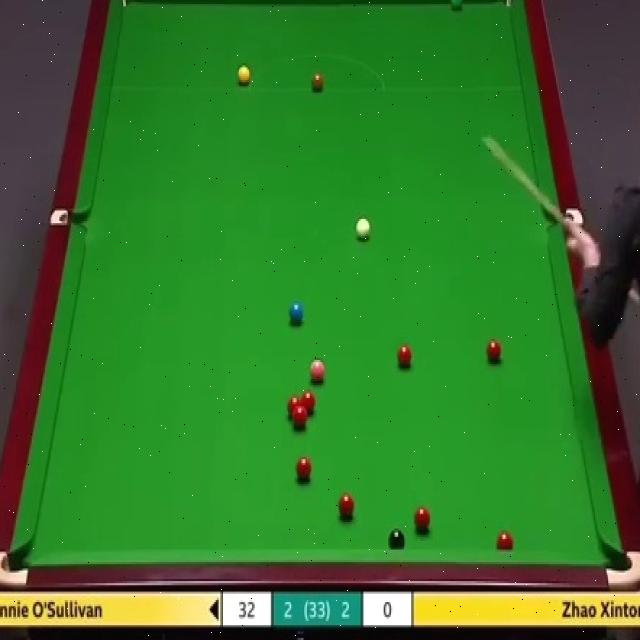black-ball: (389, 527, 405, 550)
blue-ball: (288, 301, 306, 323)
brown-ball: (311, 69, 323, 91)
green-ball: (448, 0, 463, 8)
pink-ball: (307, 360, 326, 383)
red-ball: (413, 507, 432, 535), (296, 452, 314, 481), (338, 492, 356, 521), (396, 341, 413, 370), (286, 396, 302, 422), (485, 339, 501, 365), (302, 391, 316, 416), (496, 530, 514, 549), (293, 409, 309, 430)
white-ball: (354, 216, 370, 239)
yellow-ball: (237, 68, 250, 84)
